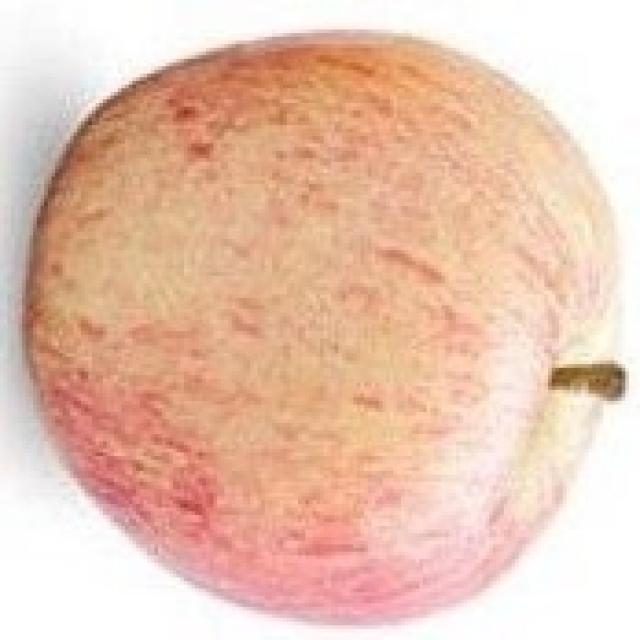75-_ripeness: (31, 36, 616, 614)
